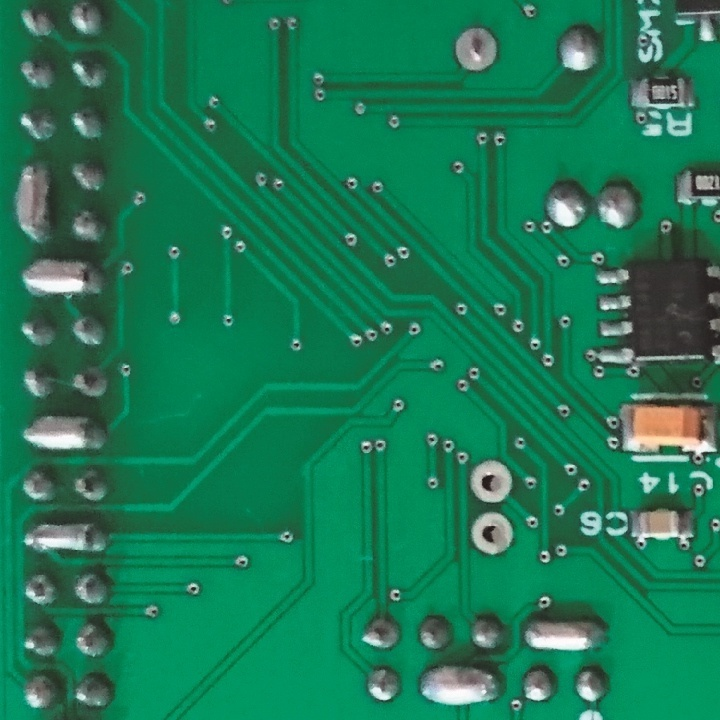F: (466, 509, 519, 560), (465, 456, 514, 509), (453, 25, 499, 78)
P: (18, 409, 109, 460), (17, 254, 109, 302), (415, 663, 505, 710), (10, 160, 57, 249), (522, 612, 610, 658), (21, 519, 111, 560)
